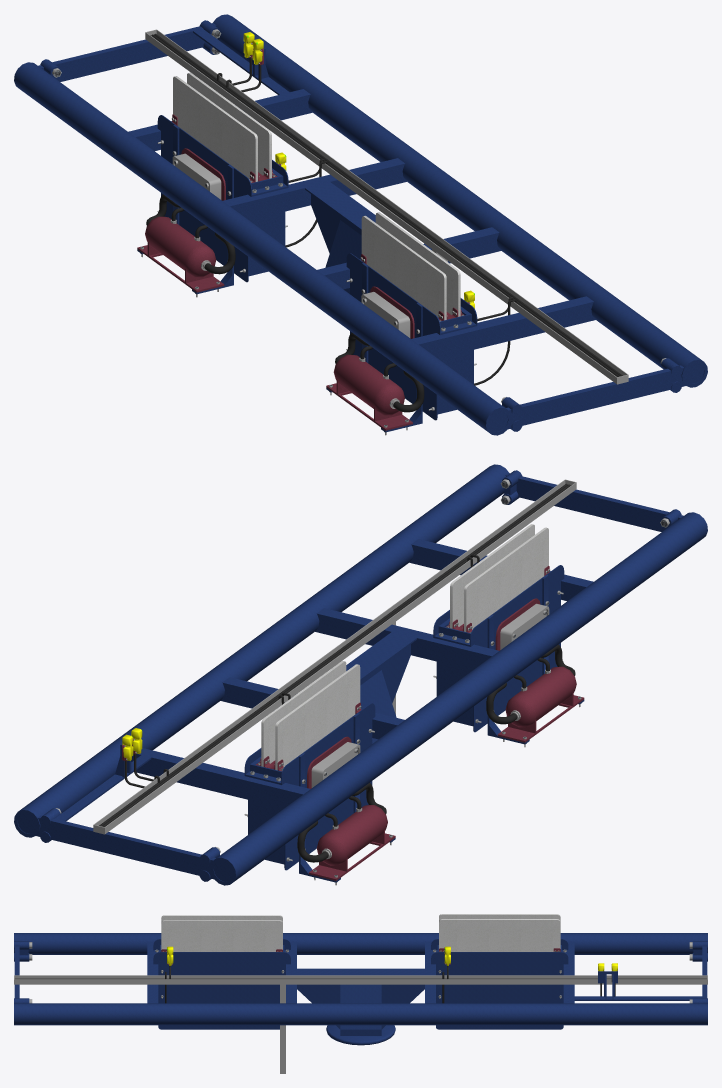
The model's file is Trim Section (Retractable with end sensor).dae.
The picture shows the model from 3 angles, top to bottom: view 1: azimuth 30°, elevation 25°; view 2: azimuth 150°, elevation 25°; view 3: azimuth 270°, elevation 25°; orthographic projection. The views are drawn at different scales.
Parts seen in each view (by area): view 1: Track (×7), Mid_Detail (×4), Fins (×4), High_Detail_1 (×6), High_Detail; view 2: Track (×7), Mid_Detail (×4), Fins (×4), High_Detail_1 (×6), High_Detail; view 3: Track (×6), Mid_Detail (×4), Fins (×4), High_Detail_1, High_Detail.
Part boxes in pixels (x1,y1,x2,y2): Track (×7): (14, 14, 707, 435); Mid_Detail (×4): (145, 29, 628, 420); Fins (×4): (173, 72, 460, 320); High_Detail_1 (×6): (137, 33, 622, 430); High_Detail: (193, 28, 289, 94); Track (×7): (14, 464, 707, 885); Mid_Detail (×4): (93, 479, 576, 870); Fins (×4): (261, 524, 548, 770); High_Detail_1 (×6): (99, 483, 584, 880); High_Detail: (55, 743, 151, 821); Track (×6): (14, 933, 707, 1045); Mid_Detail (×4): (14, 939, 707, 1073); Fins (×4): (161, 914, 560, 951); High_Detail_1: (15, 978, 706, 979); High_Detail: (574, 971, 702, 1000).
Size of the model in its own units: 53.48 by 197 by 40.52.
Materials: 12 (6 with a texture image).
